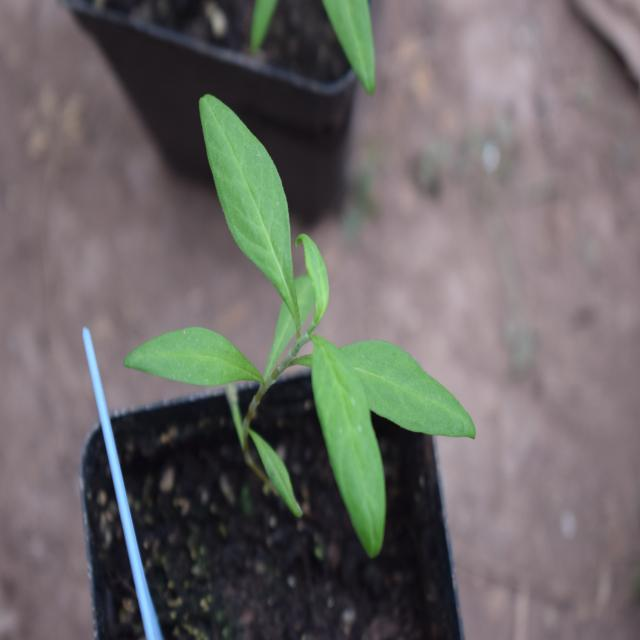white_smart_weed: (157, 110, 514, 588)
